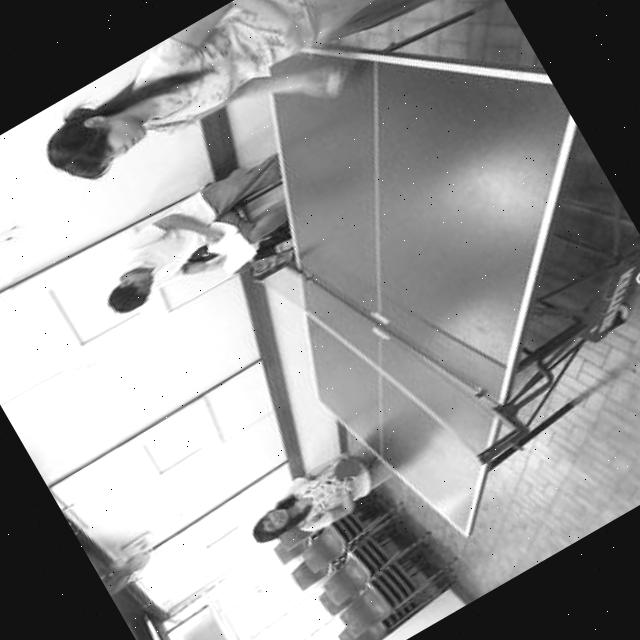ping-pong-ball: (319, 69, 348, 95)
